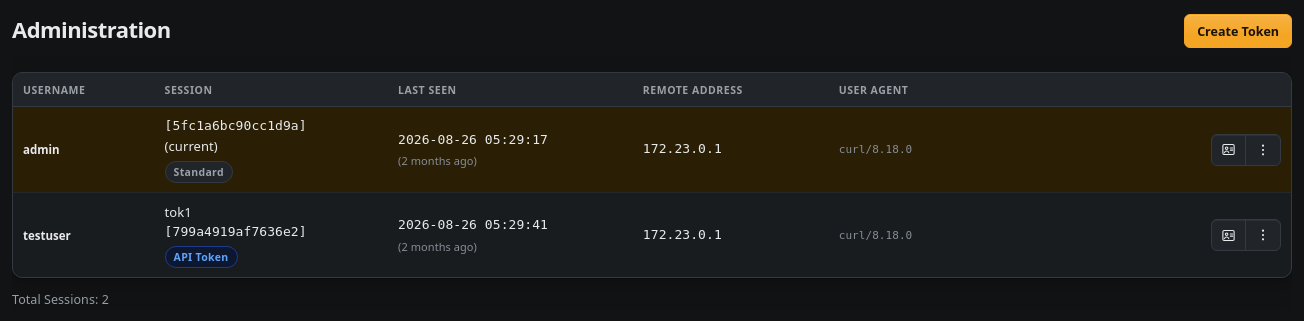
Test case: Sessions: the row actions › View User Details is the row button and the menu keeps only Delete Session
The width and height of the screenshot is (1304, 321).
Click the button named "Actions for 799a4919af7636e2". click: (1263, 235)
box: [1246,220,1280,250]
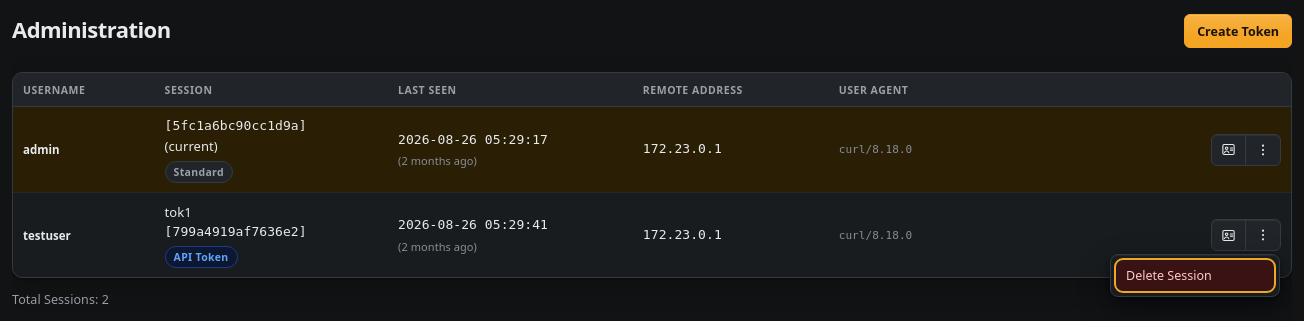
expect the button named "View User Details" in the row of "(current)" is shown: met, box [1212,134,1245,164]
expect the menu items read "Delete Session", in this order: met, box [1117,261,1273,290]
